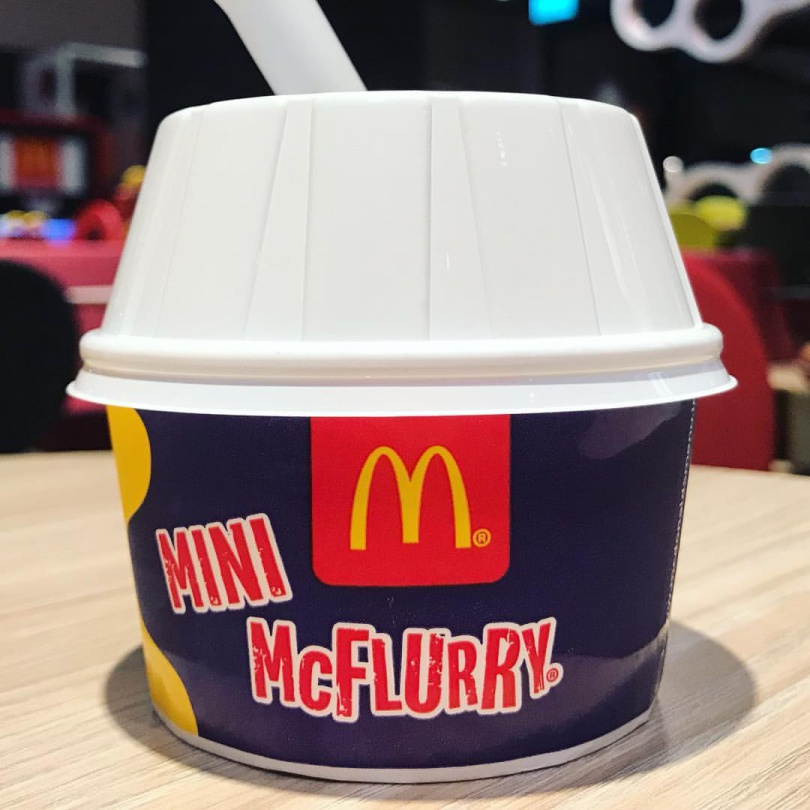mcdonalds: (346, 434, 486, 566)
